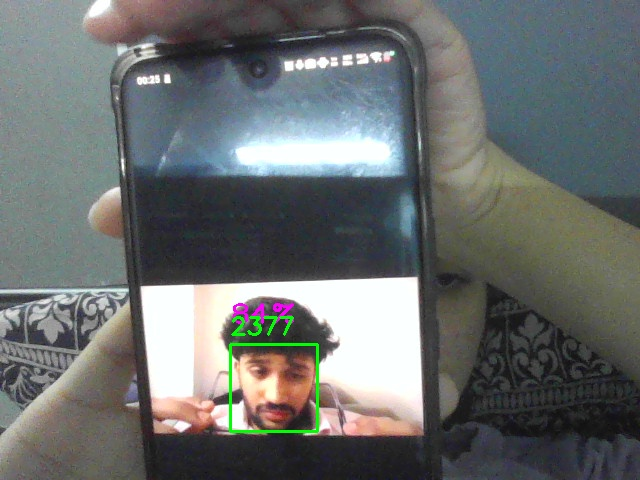fake: (230, 344, 318, 432)
